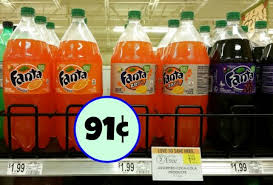fanta: (164, 21, 210, 112), (8, 13, 47, 112), (115, 19, 156, 104), (58, 19, 94, 110)
